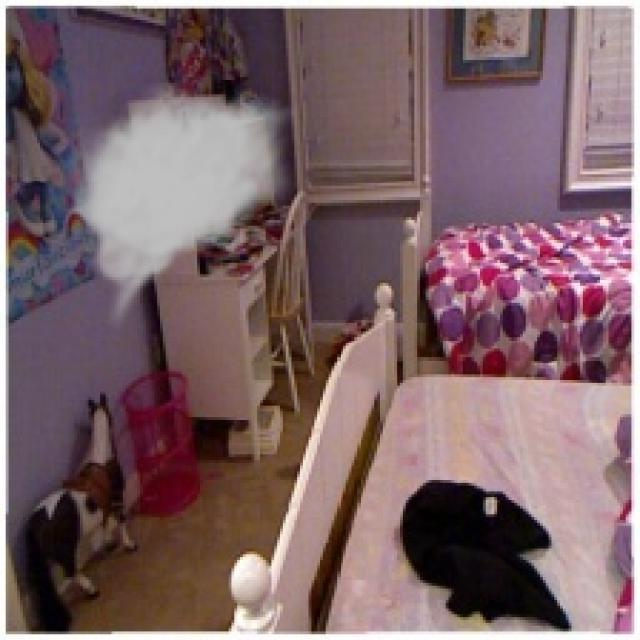Smoke: (63, 82, 300, 332)
